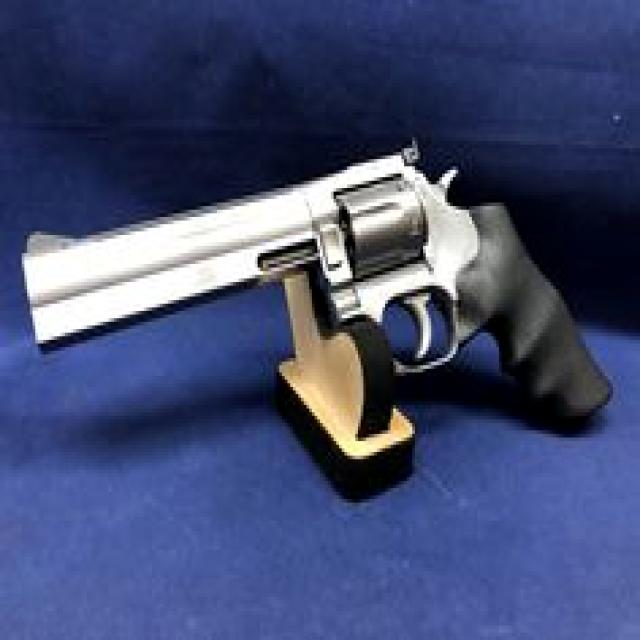revolver: (0, 79, 639, 490)
